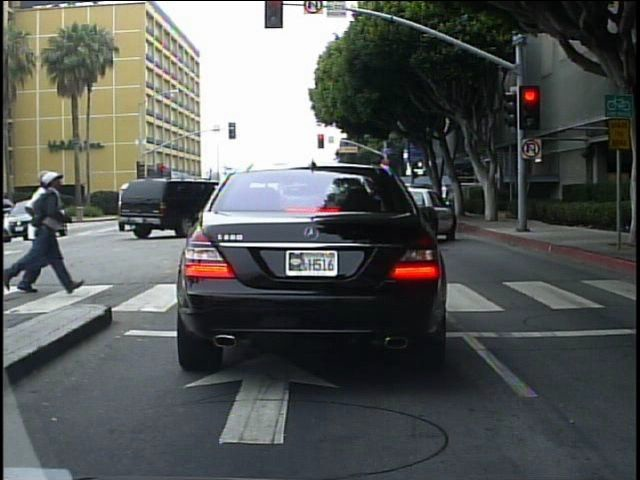person: (13, 170, 68, 294), (437, 179, 452, 215)
